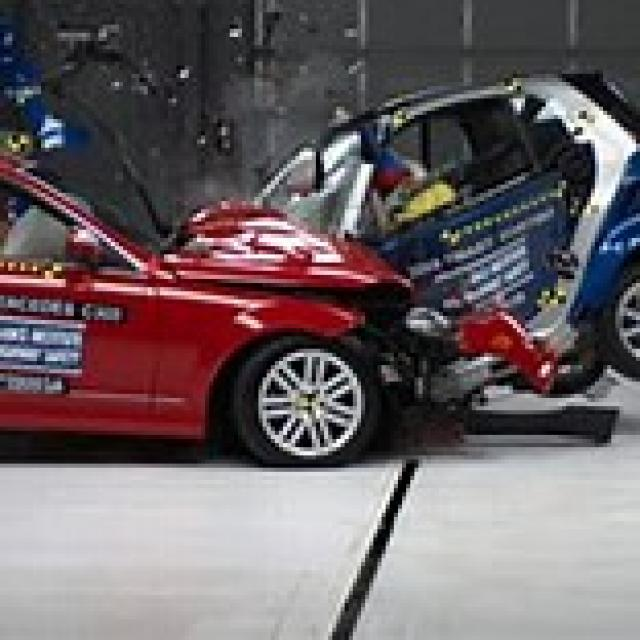Accident: (77, 55, 640, 382)
